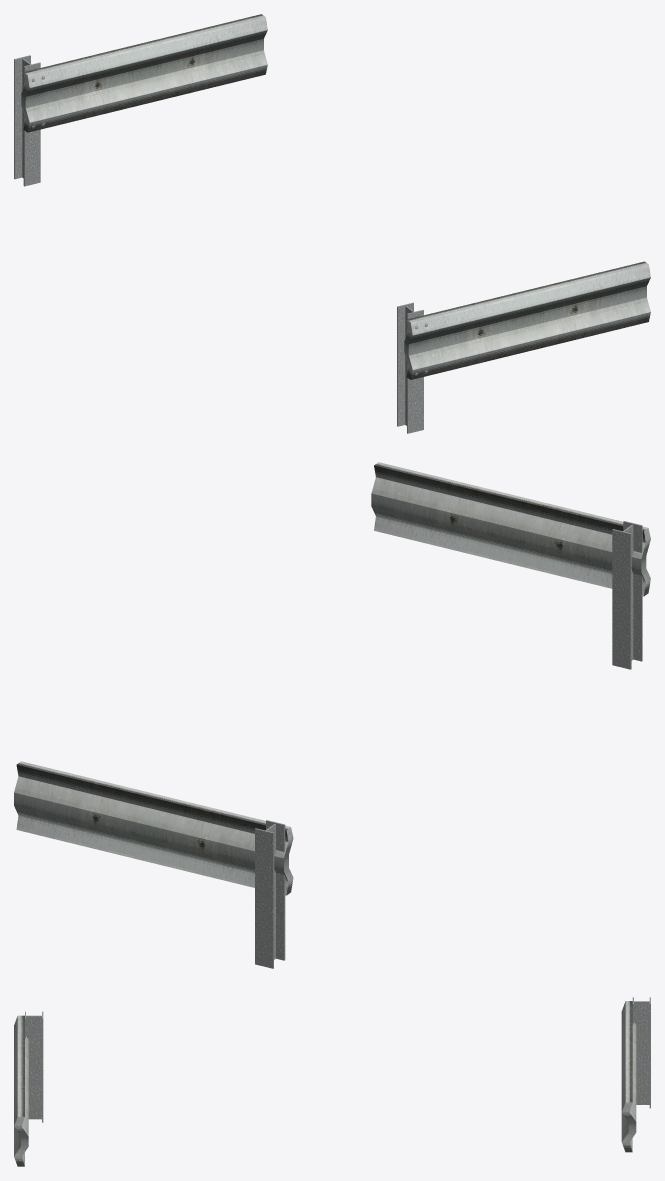
Rendered from guard_rail.glb.
3 views of the same model, one above another, from view 1: azimuth 30°, elevation 25°; view 2: azimuth 150°, elevation 25°; view 3: azimuth 270°, elevation 25° (orthographic). The views are drawn at different scales.
Parts seen in each view (by area): view 1: Guardrail, Guardrail_Example; view 2: Guardrail_Example, Guardrail; view 3: Guardrail, Guardrail_Example.
Boxes of the visible parts, x1=… form: Guardrail: x1=14, y1=14, x2=267, y2=186; Guardrail_Example: x1=397, y1=261, x2=650, y2=433; Guardrail_Example: x1=371, y1=462, x2=650, y2=669; Guardrail: x1=14, y1=761, x2=293, y2=968; Guardrail: x1=621, y1=997, x2=650, y2=1152; Guardrail_Example: x1=14, y1=1011, x2=43, y2=1166.
Size of the model in its own units: 9.89 by 4.16 by 23.05.
2 materials, 2 textured.
